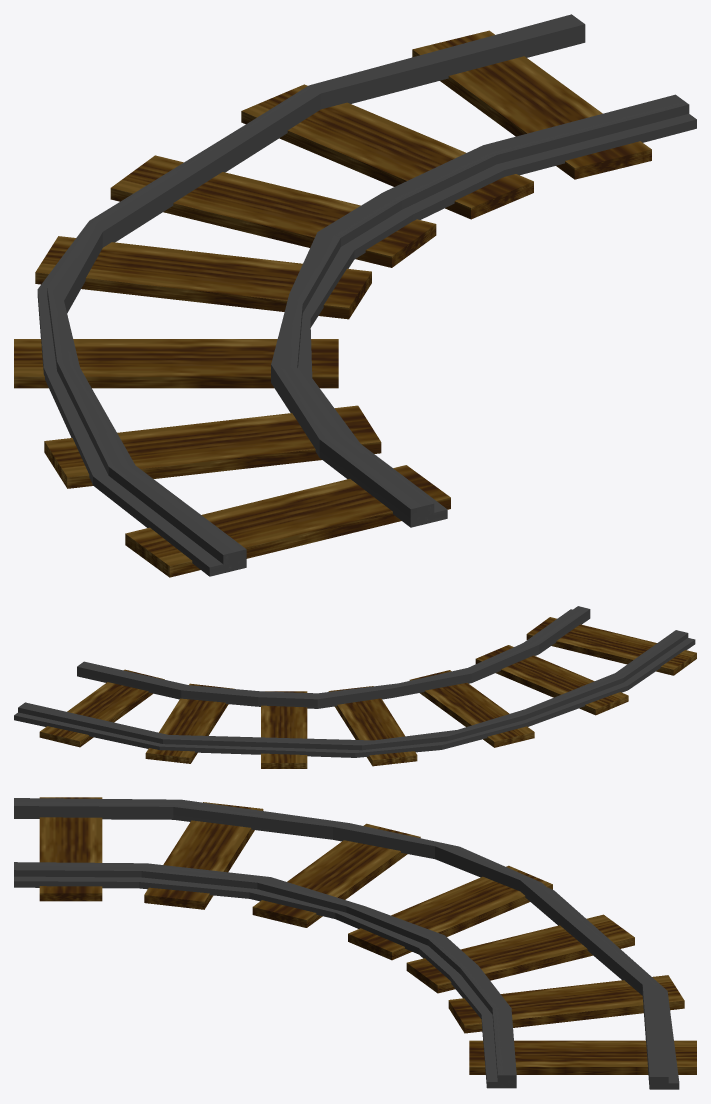
File: MinecartTrackTurn.glb
The picture shows the model from 3 angles, top to bottom: view 1: azimuth 30°, elevation 25°; view 2: azimuth 150°, elevation 25°; view 3: azimuth 270°, elevation 25°; orthographic projection. The views are drawn at different scales.
Parts seen in each view (by area): view 1: MinecartTrackTurn_joined; view 2: MinecartTrackTurn_joined; view 3: MinecartTrackTurn_joined.
Boxes of the visible parts, x1=… form: MinecartTrackTurn_joined: x1=14, y1=14, x2=696, y2=577; MinecartTrackTurn_joined: x1=14, y1=606, x2=696, y2=768; MinecartTrackTurn_joined: x1=14, y1=797, x2=696, y2=1089.
Size of the model in its own units: 1.81 by 0.0561 by 1.8.
2 materials, 2 textured.
